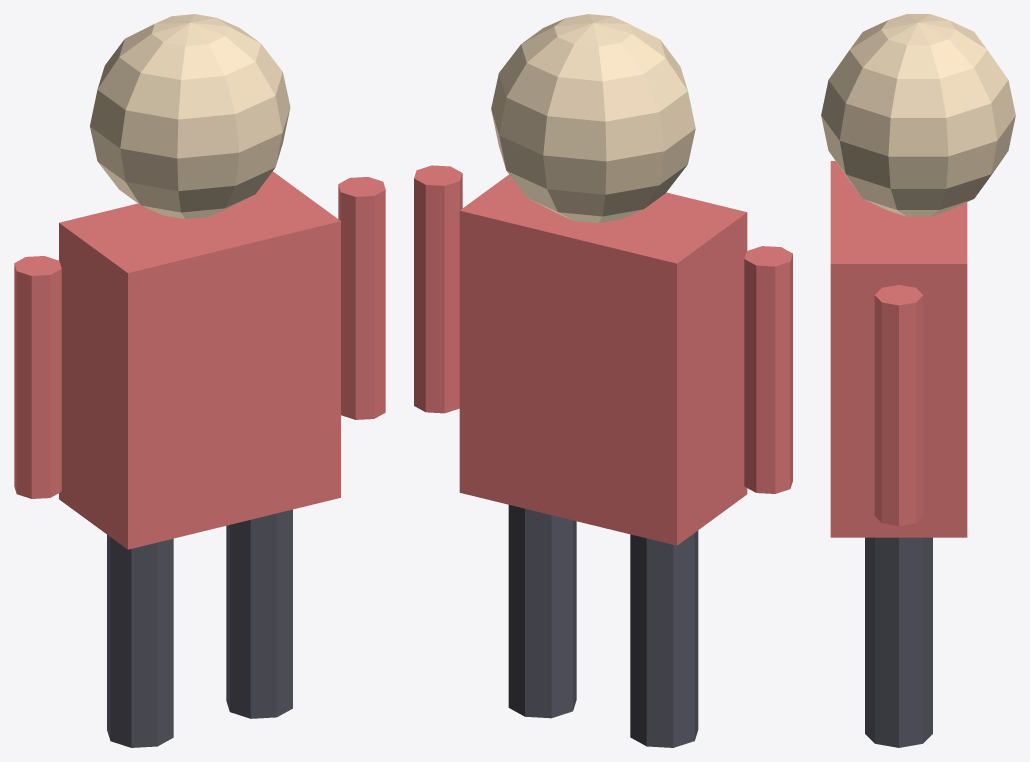
Rendered from horror.glb.
The picture shows the model from 3 angles, left to right: view 1: azimuth 30°, elevation 25°; view 2: azimuth 150°, elevation 25°; view 3: azimuth 270°, elevation 25°; orthographic projection. The views are drawn at different scales.
Parts seen in each view (by area): view 1: horror; view 2: horror; view 3: horror.
Boxes of the visible parts, left/top/right/bottom form: horror: left=14, top=14, right=385, bottom=747; horror: left=414, top=14, right=792, bottom=747; horror: left=821, top=14, right=1015, bottom=747.
Bounding box in the file's own units: 0.86 × 1.55 × 0.4.
